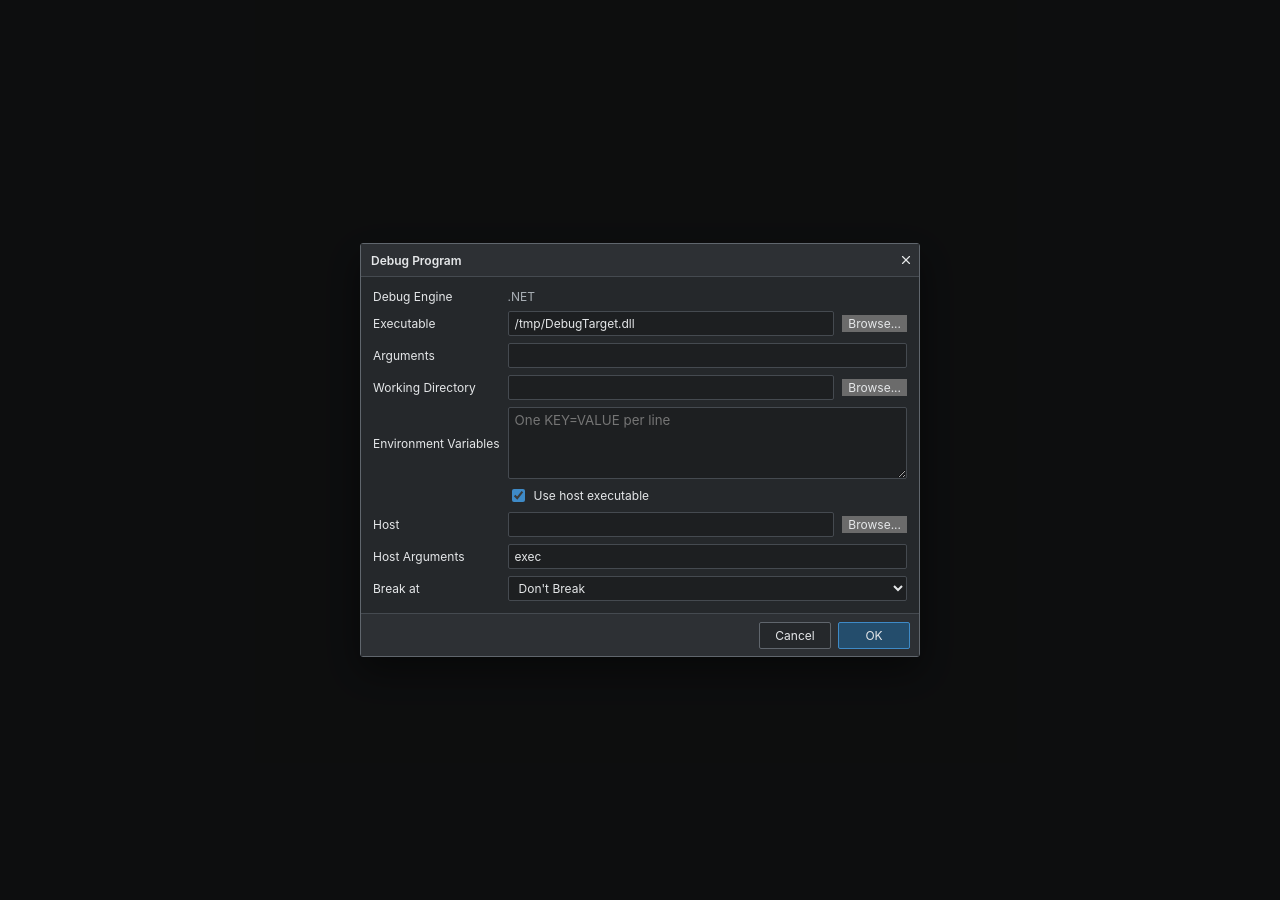
Test: DebugProgramDialog › browses for a host executable
// The host's browse button is the last of the three, after Executable and Working Directory.
Click the 3rd button "Browse...".
click(875, 524)  # box [842, 516, 907, 533]
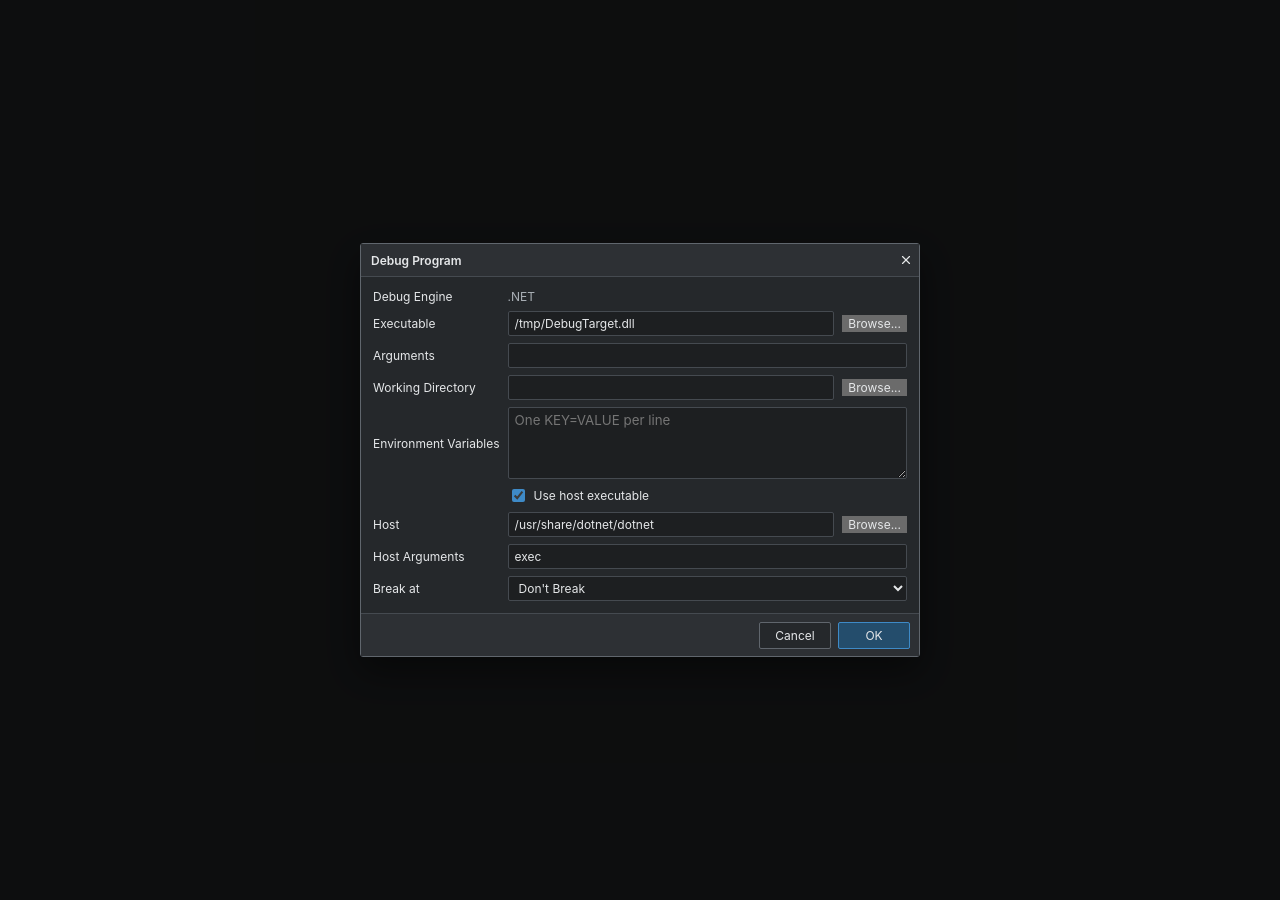
Now the field labelled "Host" holds "/usr/share/dotnet/dotnet", box [508, 512, 834, 537]
